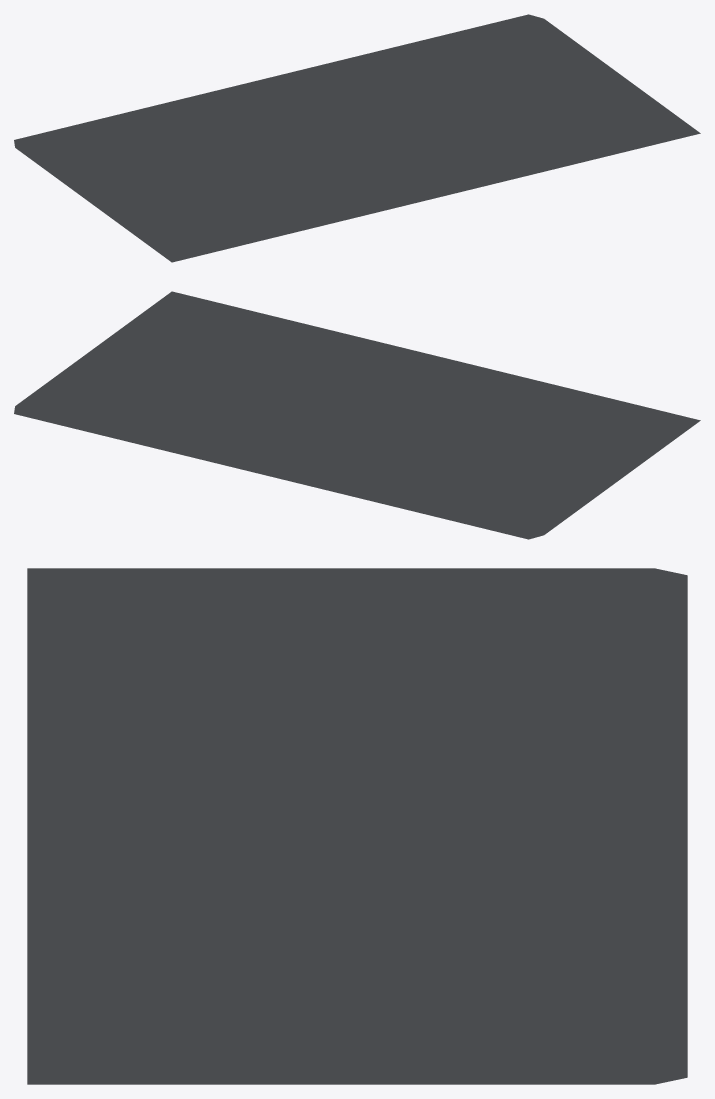
The model's file is Quarters_Floor_Fill.fbx.
3 views of the same model, one above another, from view 1: azimuth 30°, elevation 25°; view 2: azimuth 150°, elevation 25°; view 3: azimuth 270°, elevation 25° (orthographic). The views are drawn at different scales.
Visible parts, largest first — view 1: Quarters_Floor_Fill; view 2: Quarters_Floor_Fill; view 3: Quarters_Floor_Fill.
Part boxes in pixels (x1,y1,x2,y2): Quarters_Floor_Fill: [14, 14, 700, 262]; Quarters_Floor_Fill: [14, 291, 700, 539]; Quarters_Floor_Fill: [27, 568, 687, 1084].
Bounding box in the file's own units: 74 × 4.83e-06 × 40.
